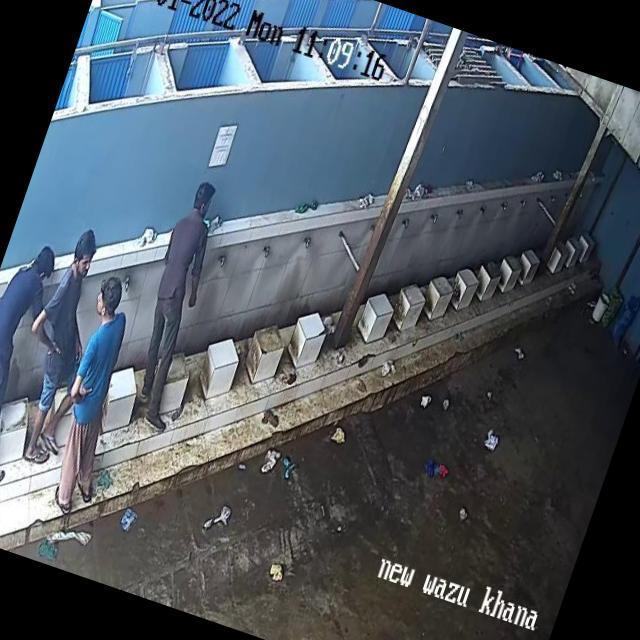person: (107, 176, 240, 436), (0, 226, 127, 471), (28, 278, 155, 513), (0, 236, 75, 487)
